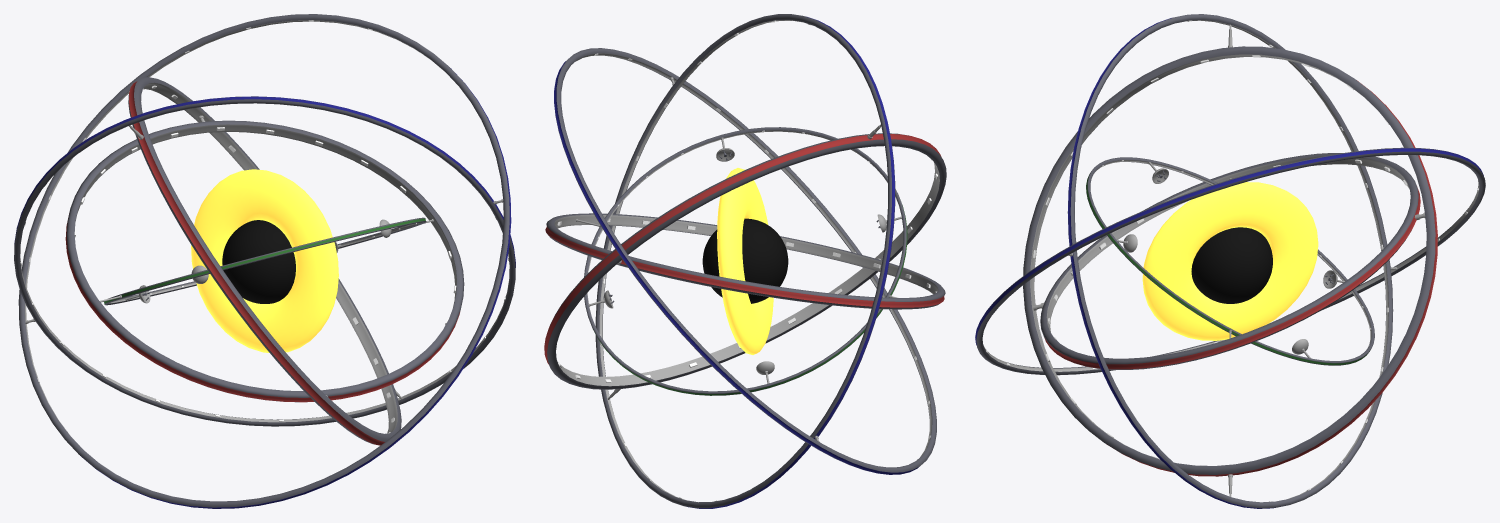
File: black_hole_station_daily_draft_35.glb
The picture shows the model from 3 angles, left to right: view 1: azimuth 30°, elevation 25°; view 2: azimuth 150°, elevation 25°; view 3: azimuth 270°, elevation 25°; orthographic projection.
Parts seen in each view (by area): view 1: pTorus2, pTorus7, Circle2, Circle3, Circle4, pSphere1, Cricle1; view 2: Circle3, Circle4, pTorus7, Circle2, pTorus2, Cricle1, pSphere1; view 3: pTorus2, Circle3, Circle4, Circle2, pTorus7, pSphere1, Cricle1.
Part boxes in pixels (x1,y1,x2,y2): pTorus2: (191,169,338,352); pTorus7: (18,14,511,508); Circle2: (65,120,464,402); Circle3: (128,77,401,445); Circle4: (14,96,515,426); pSphere1: (222,220,295,303); Cricle1: (104,217,426,305); Circle3: (544,133,946,389); Circle4: (595,14,895,508); pTorus7: (554,48,936,474); Circle2: (545,213,945,309); pTorus2: (717,168,773,354); Cricle1: (584,127,907,395); pSphere1: (702,218,788,303); pTorus2: (1142,182,1318,340); Circle3: (1023,46,1437,476); Circle4: (1067,14,1393,508); Circle2: (1040,153,1420,369); pTorus7: (975,147,1485,375); pSphere1: (1191,227,1272,303); Cricle1: (1086,157,1374,365).
Size of the model in its own units: 15.3 by 15.99 by 17.82.
